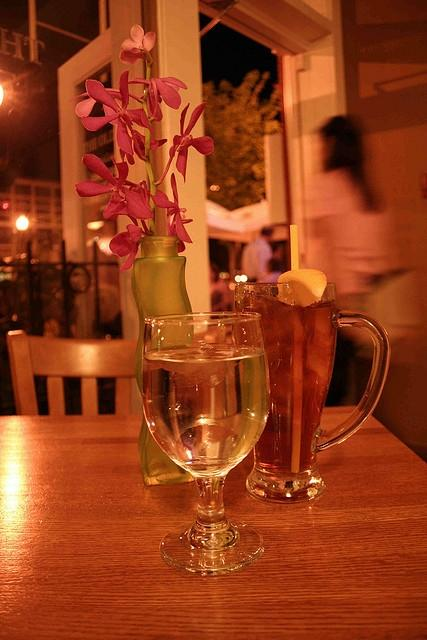lemon: (276, 268, 327, 306)
